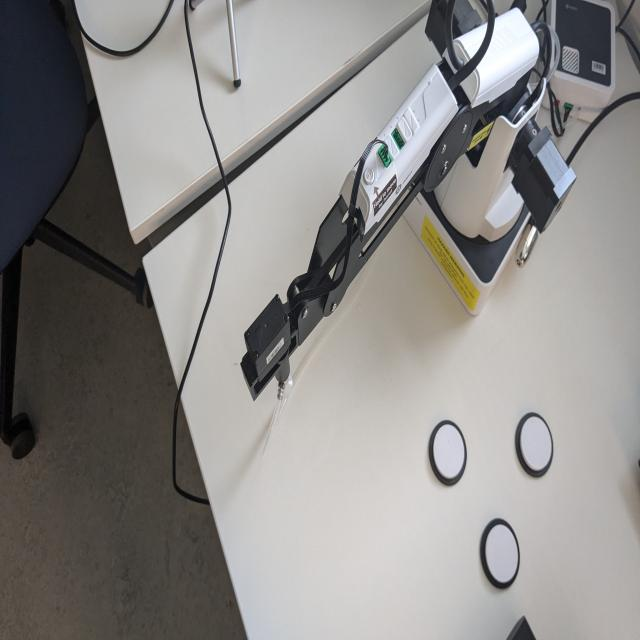Robot-end-effector-HF8z: (239, 293, 294, 404)
